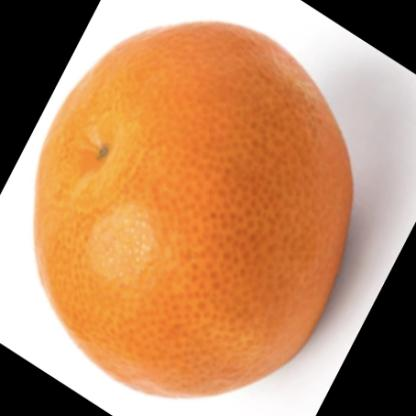fresh: (36, 27, 355, 399)
